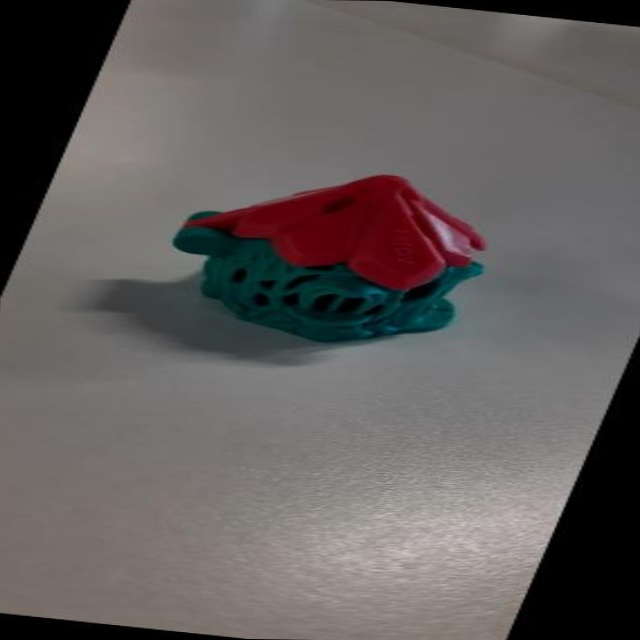House: (124, 144, 548, 368)
